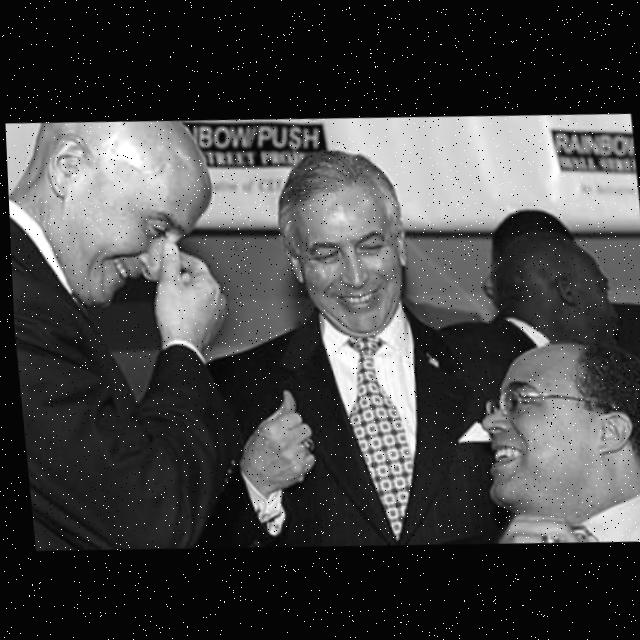face: (16, 121, 225, 316), (464, 349, 637, 521), (276, 175, 417, 334)
